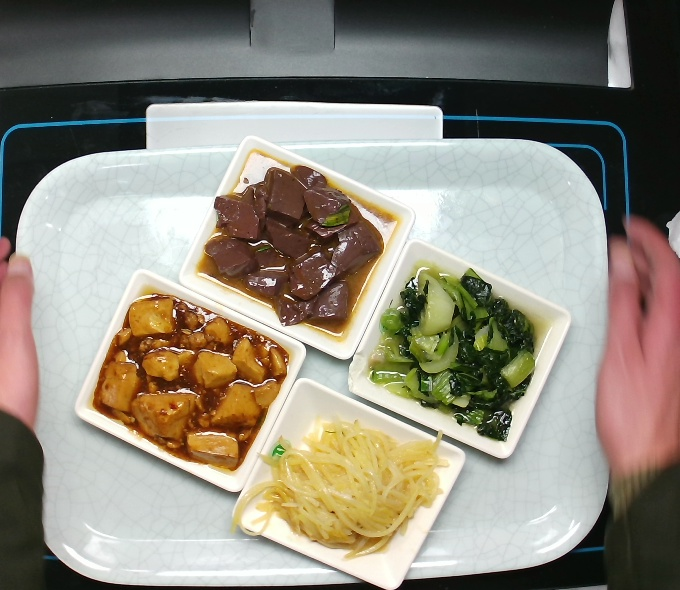wcq-MaPoDouFu: (105, 294, 286, 471)
wcq-NiuXue: (200, 165, 377, 327)
wcq-TuDouSi: (260, 420, 440, 562)
wcq-YouDongCai: (368, 265, 544, 442)
